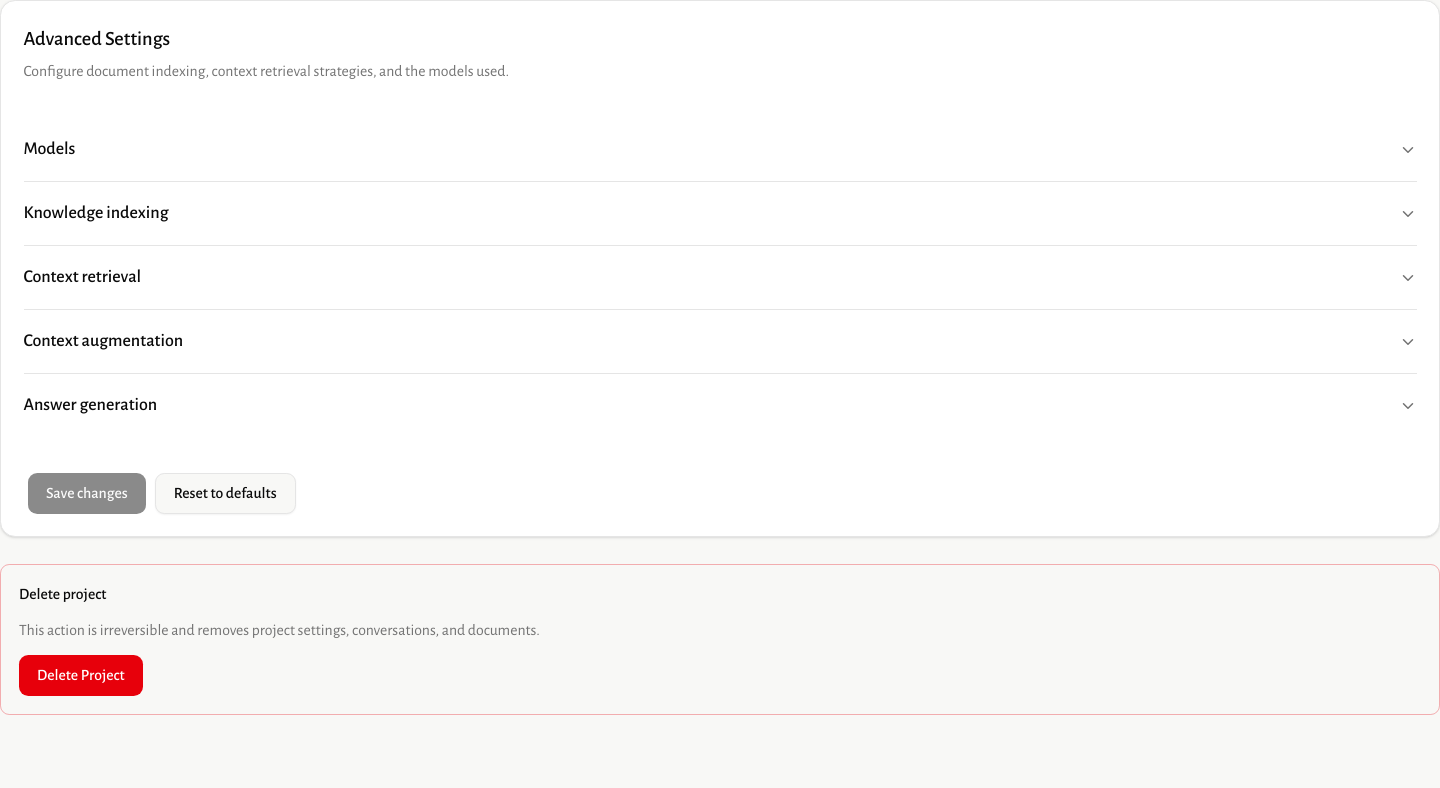
Test case: ProjectAdvancedPanel – field values inheritance › Knowledge indexing — Parent-child chunking switch › shows project value false even if org has true
Click the button "Knowledge indexing": click(96, 213) [24,182,1416,245]
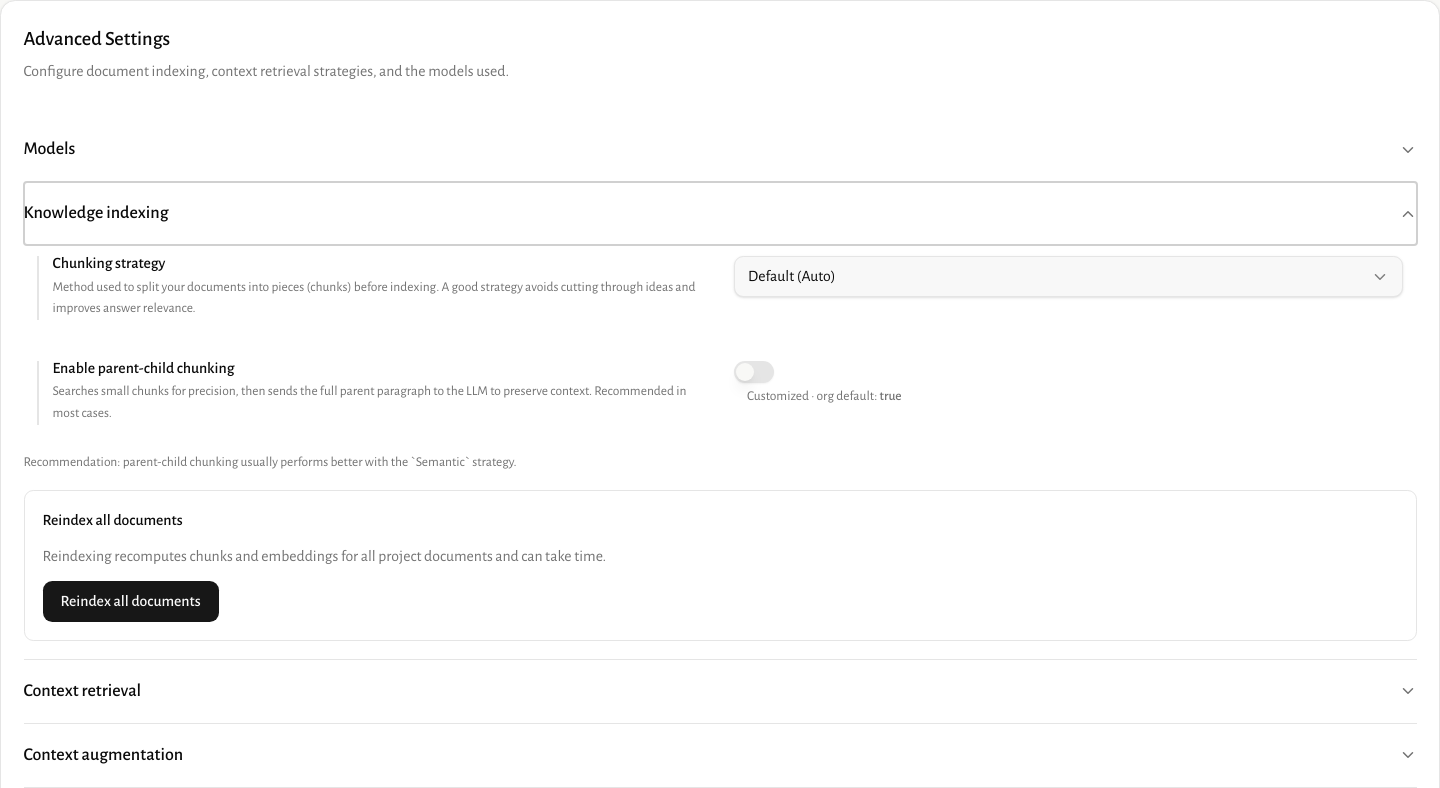
Check: the switch named "parent-child chunking" is not checked, box [734,361,774,383]
